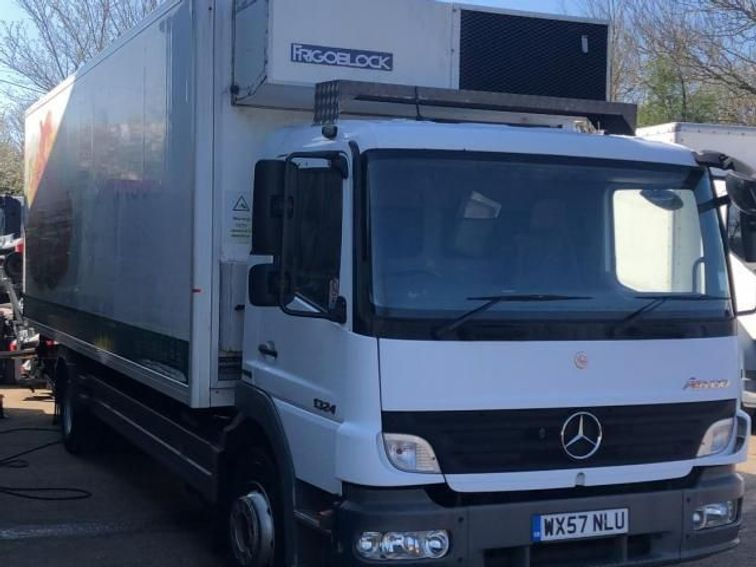Semi: (24, 0, 750, 566)
